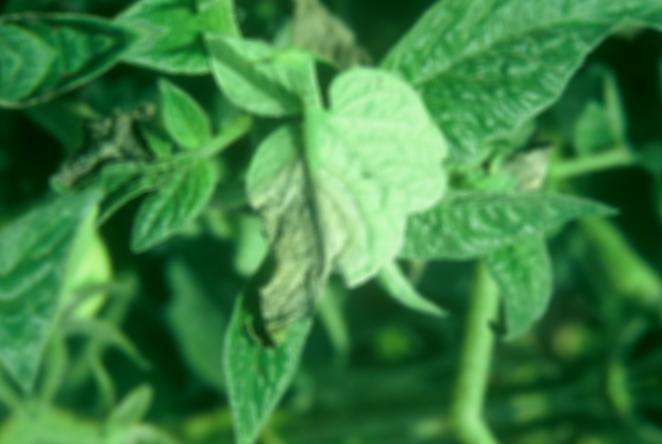Tomato leaf late blight: (137, 22, 509, 444)
